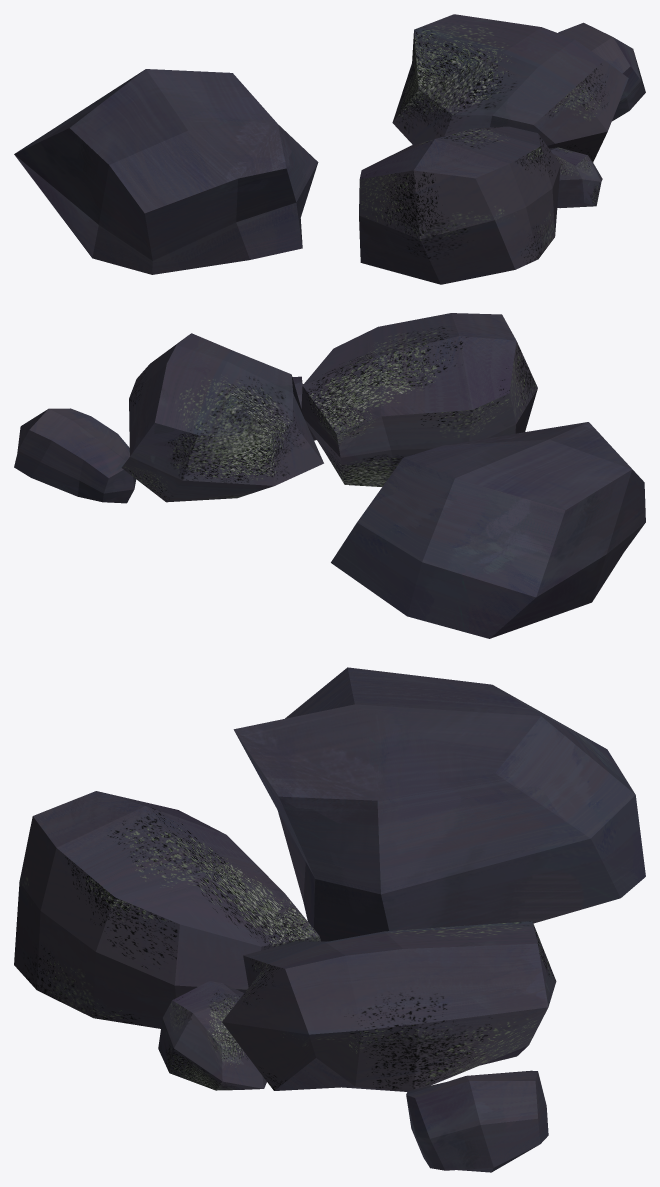
Rendered from Rock06.fbx.
The picture shows the model from 3 angles, top to bottom: view 1: azimuth 30°, elevation 25°; view 2: azimuth 150°, elevation 25°; view 3: azimuth 270°, elevation 25°; orthographic projection. The views are drawn at different scales.
Visible parts, largest first — view 1: Rock06; view 2: Rock06; view 3: Rock06.
Part boxes in pixels (x1,y1,x2,y2): Rock06: [14, 14, 645, 284]; Rock06: [14, 313, 645, 638]; Rock06: [14, 667, 645, 1172].
Size of the model in its own units: 2.22 by 0.5094 by 1.57.
Materials: 2 (2 with a texture image).
